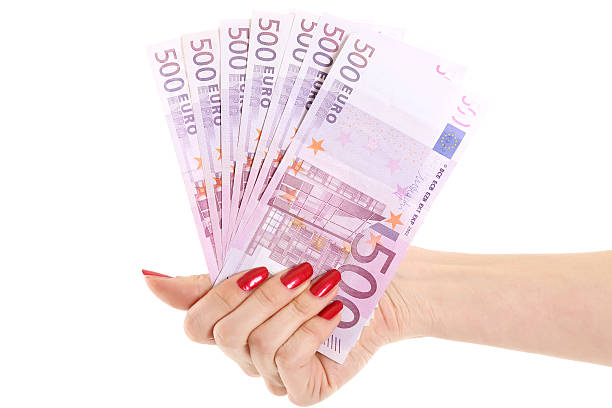billete: (143, 4, 484, 367)
